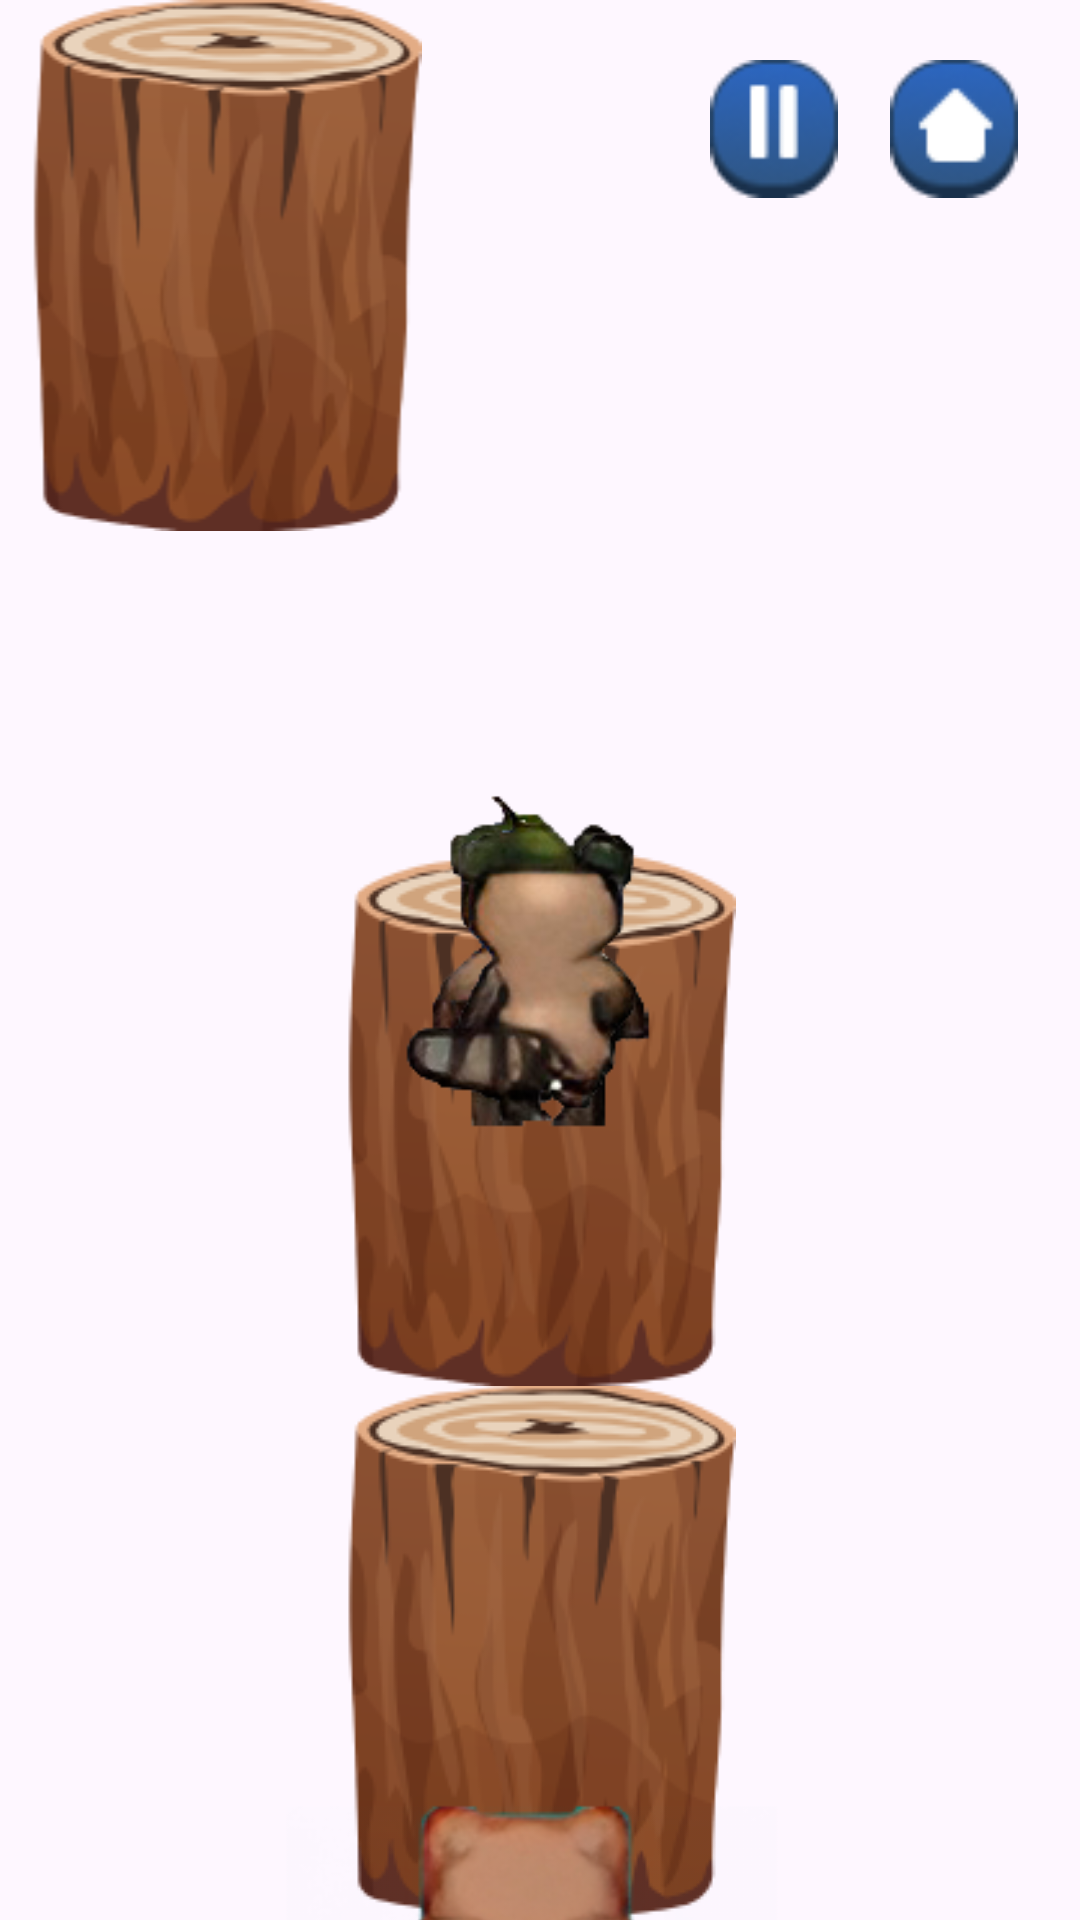

Screen size 1080 x 1920. Icon name, then its center in pixels as point (x, y):
pause: point (774, 129)
